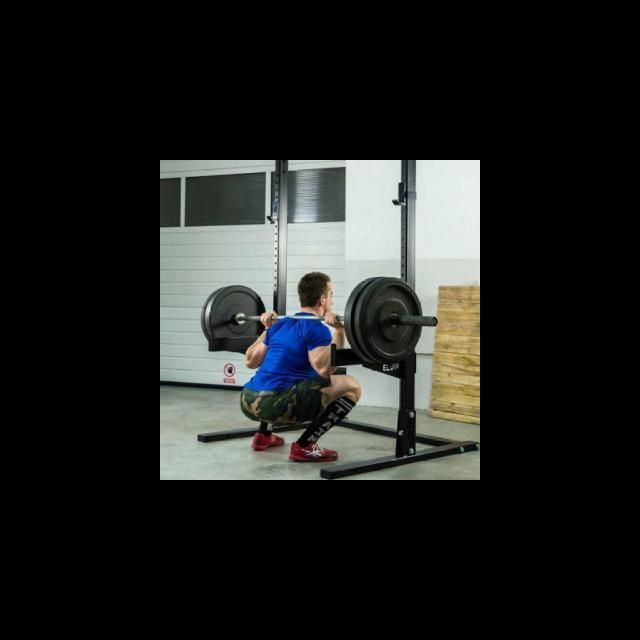barbell: (360, 275, 441, 367)
